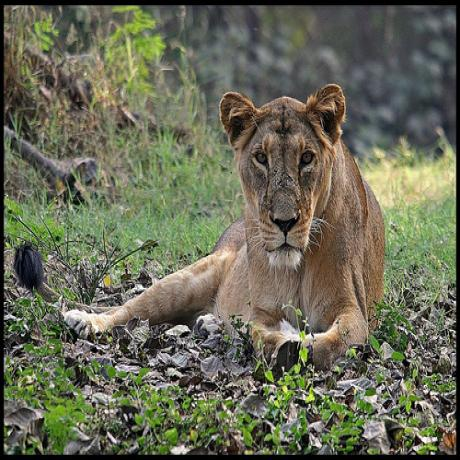Lion: (69, 83, 387, 360)
